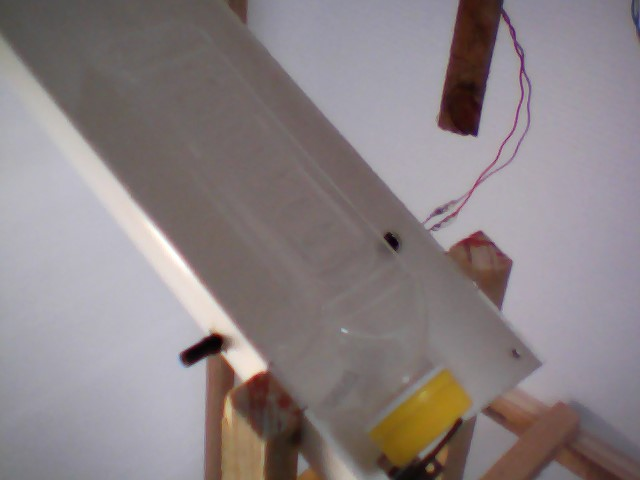plastico: (70, 14, 488, 470)
